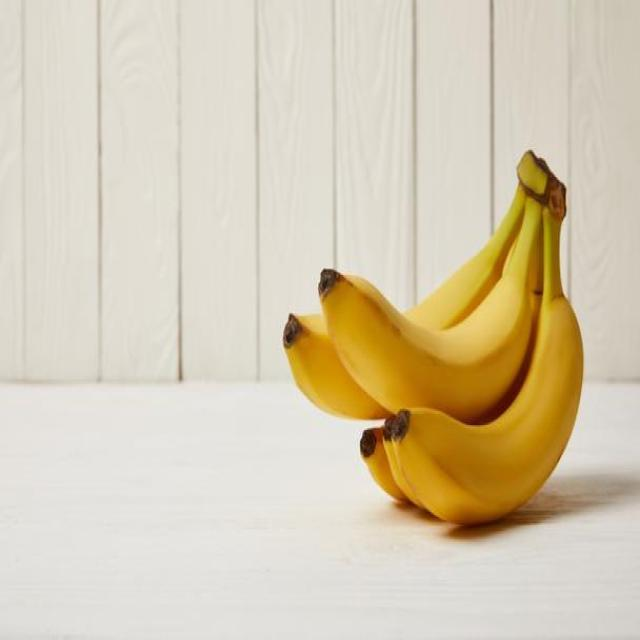banana: (279, 140, 586, 538)
